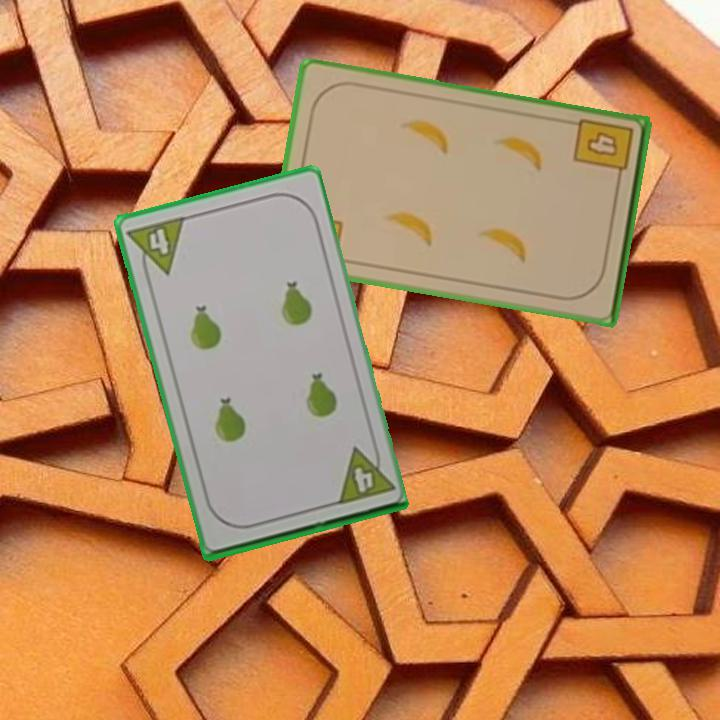4b: (570, 114, 636, 187)
4p: (123, 212, 187, 283), (332, 440, 396, 508)
